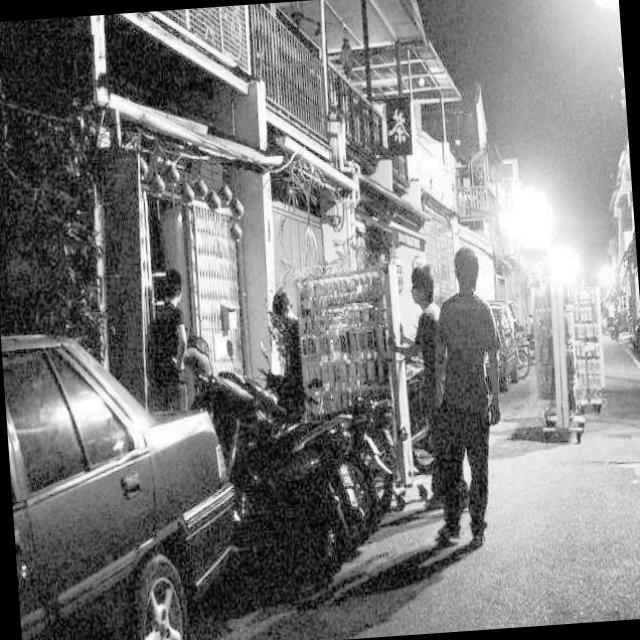Bicycle: (510, 316, 530, 376)
Car: (0, 281, 245, 640), (468, 278, 530, 402)
Motorcycle: (172, 320, 370, 619), (200, 334, 384, 567), (226, 330, 415, 548)
Person: (402, 234, 516, 547), (388, 248, 472, 516), (128, 260, 194, 433), (257, 284, 302, 402)
